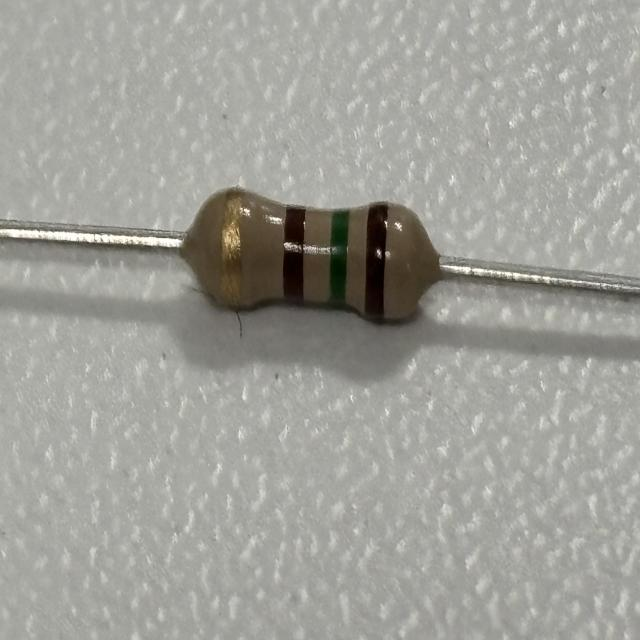resistor: (204, 187, 425, 330)
